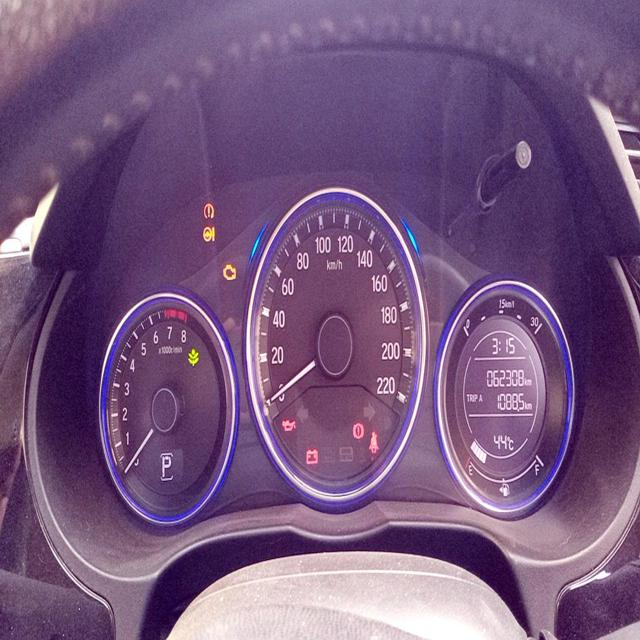odometer: (483, 365, 525, 392)
